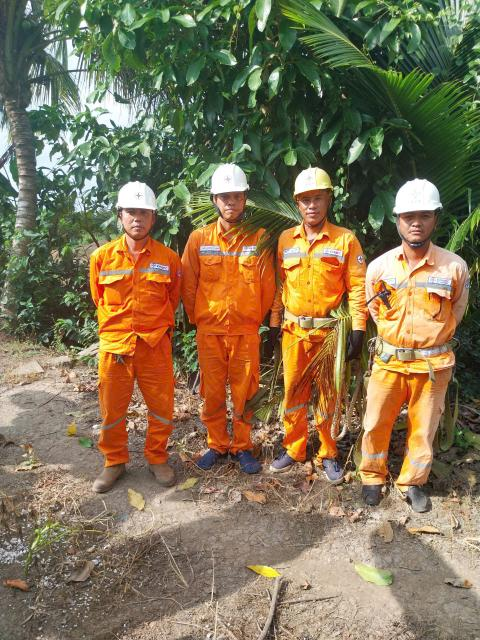harness: (361, 331, 467, 370), (282, 304, 341, 338)
helmet: (386, 167, 443, 223), (282, 160, 335, 197), (214, 155, 248, 200), (114, 183, 163, 212)
shoes: (88, 441, 124, 499), (141, 453, 182, 492), (356, 471, 385, 510), (269, 439, 293, 483), (198, 438, 224, 478), (318, 456, 348, 487), (406, 481, 430, 517), (239, 446, 261, 480)
